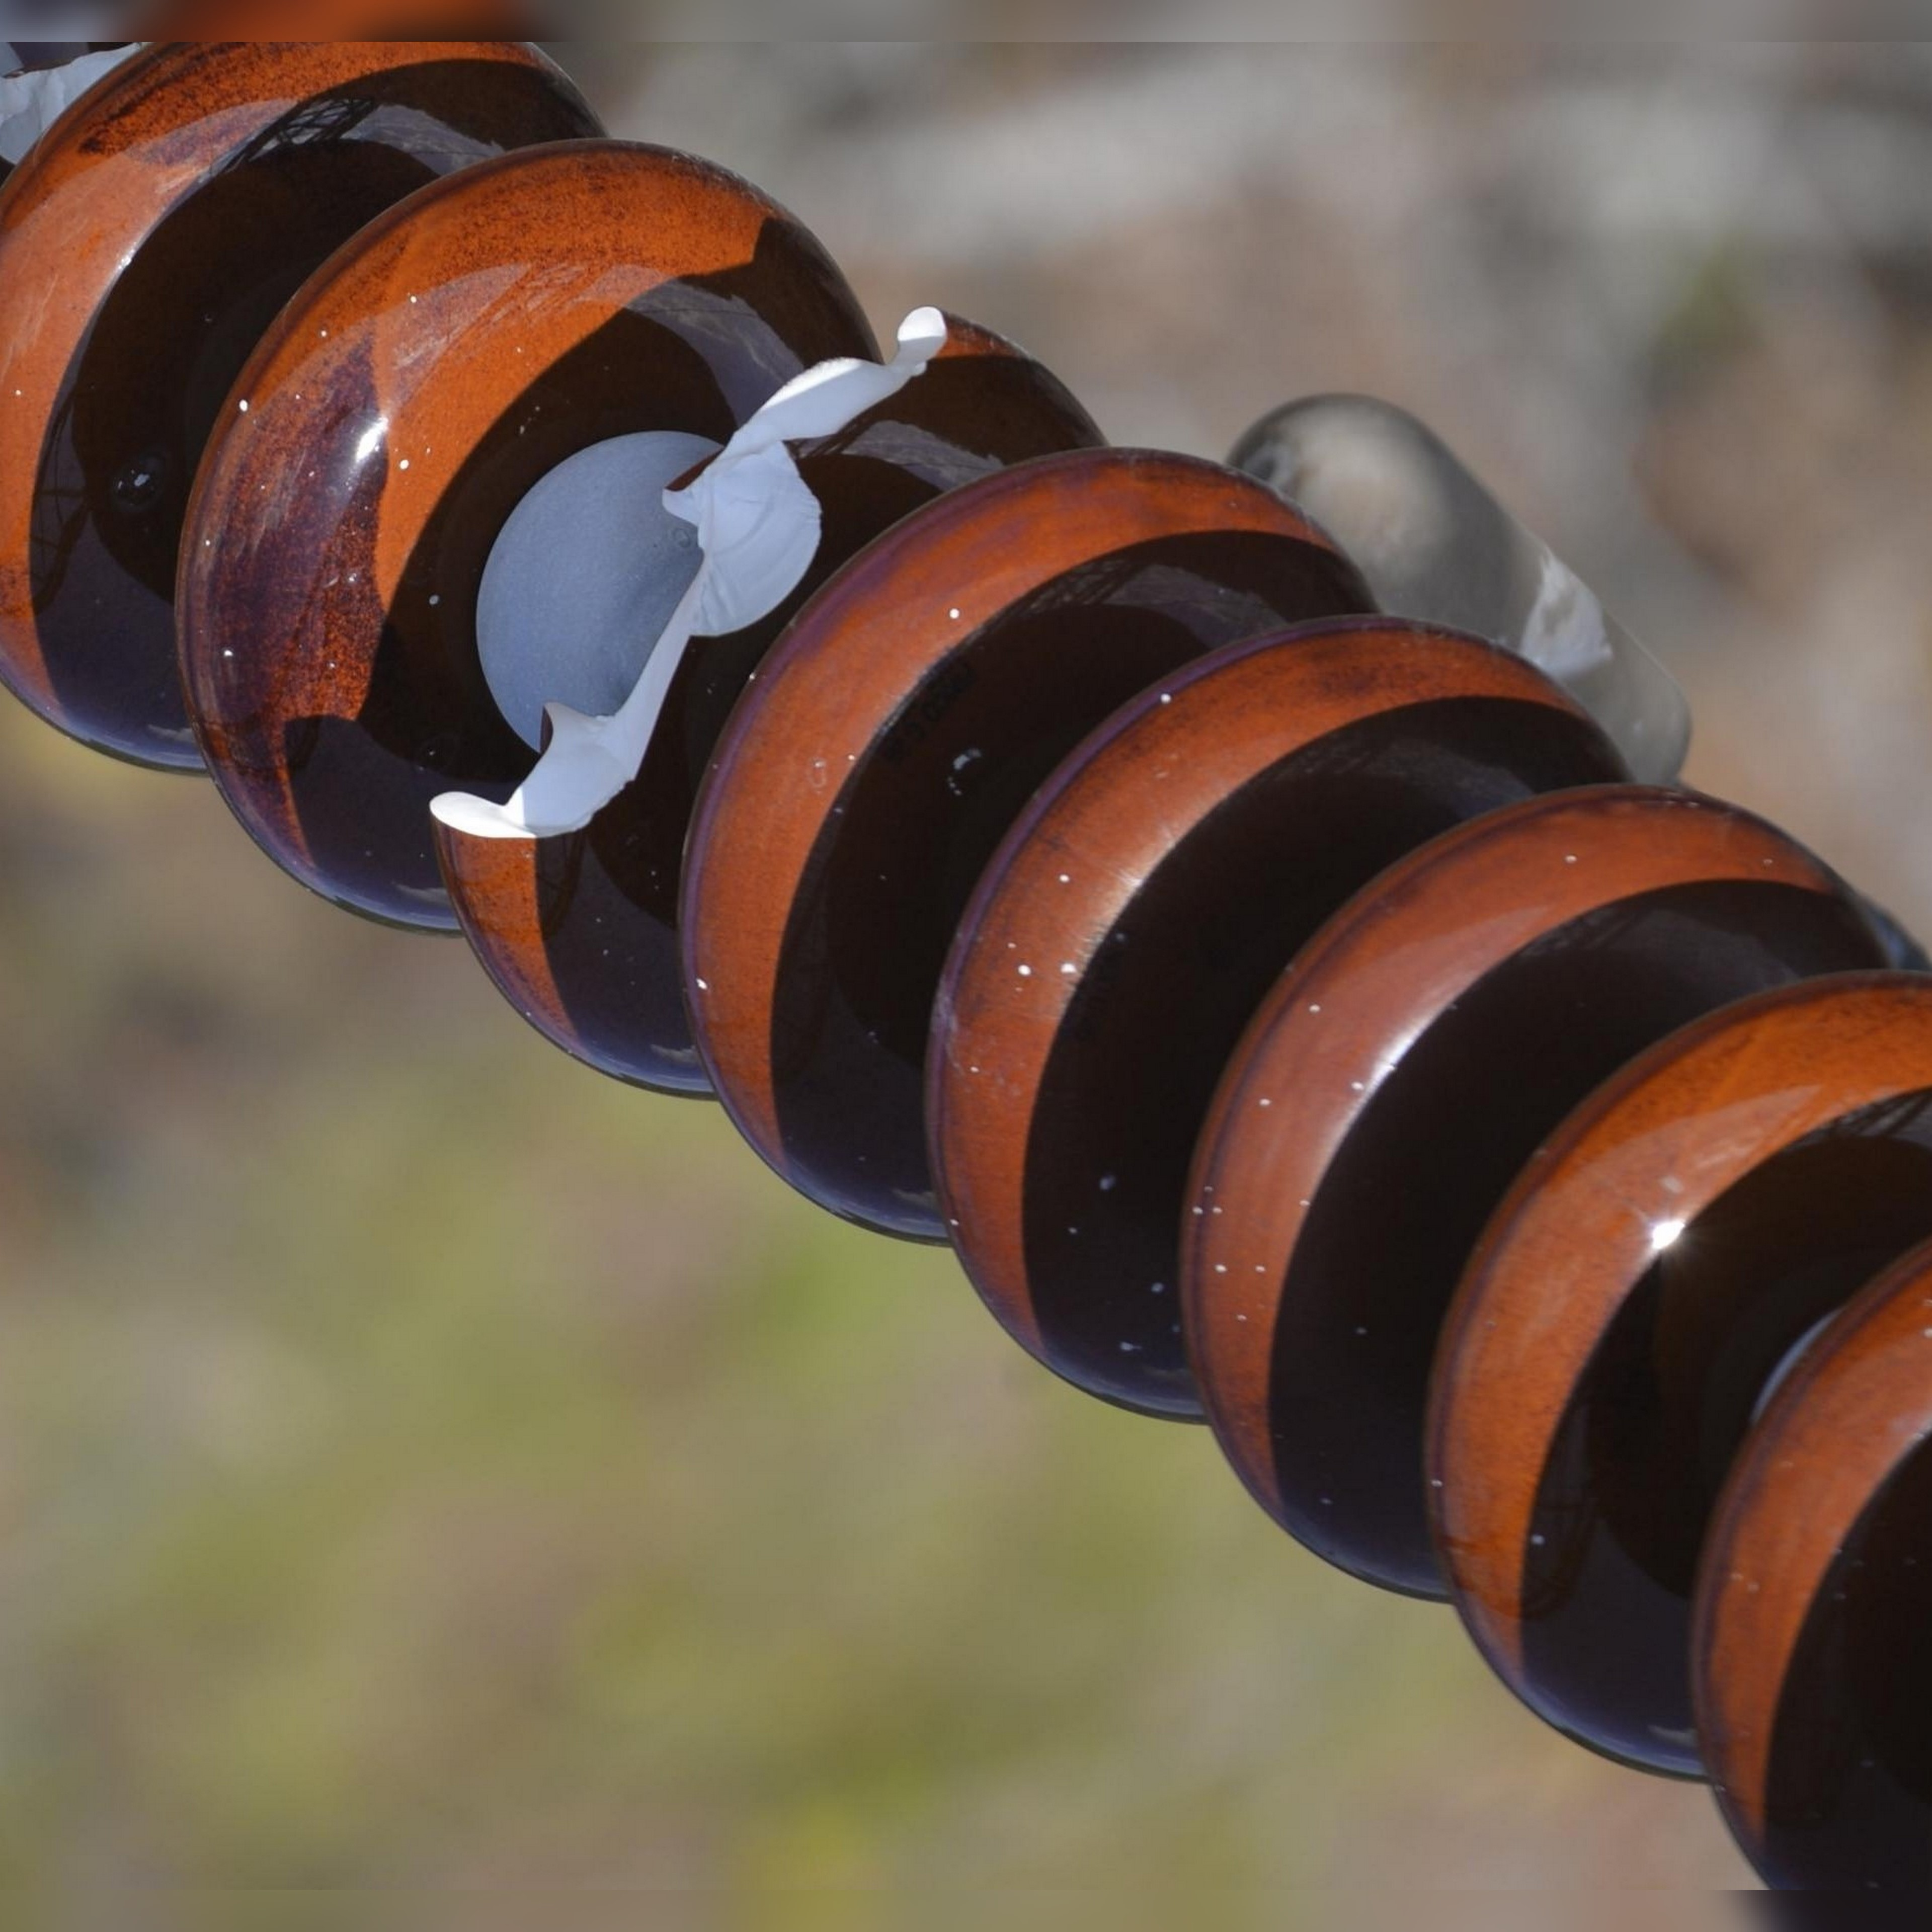insulator breakage: (366, 276, 1122, 1108)
